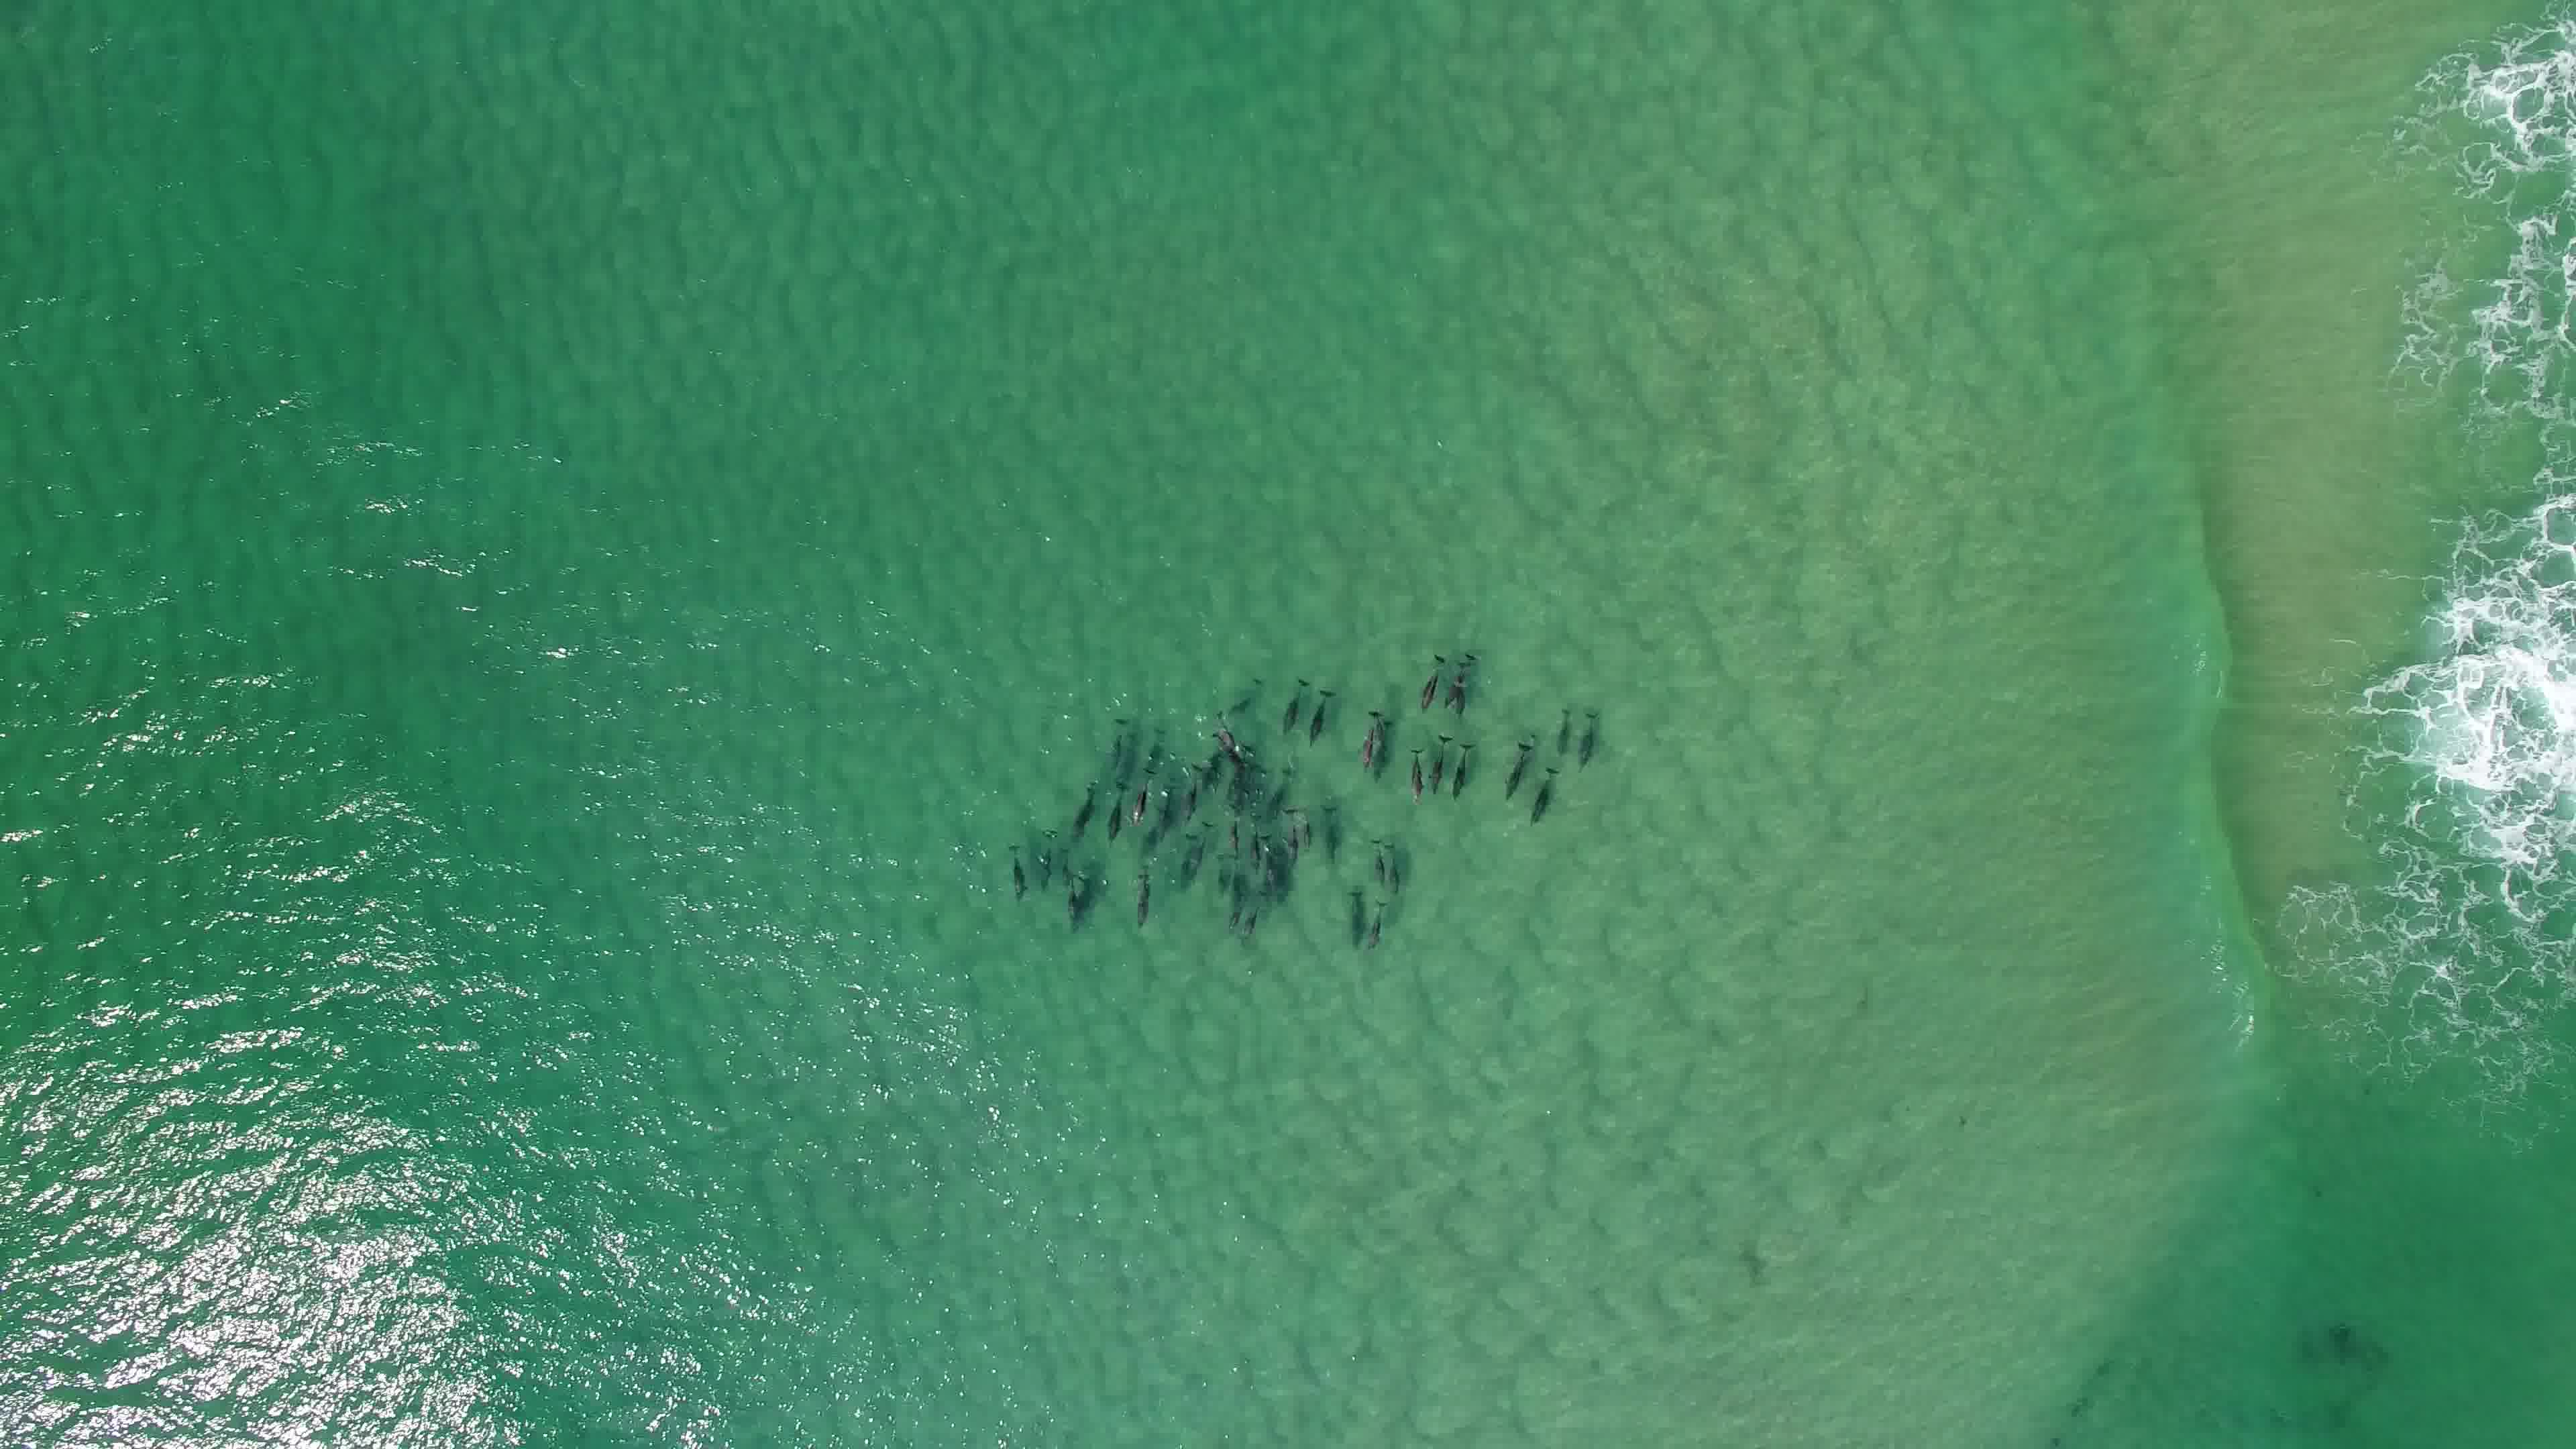dolphin: (1352, 701, 1401, 780), (1205, 704, 1254, 784), (1054, 775, 1102, 837), (1299, 679, 1338, 750), (1444, 640, 1479, 713), (1414, 646, 1449, 713), (1357, 886, 1392, 954), (1274, 672, 1313, 732), (1527, 752, 1559, 824), (1120, 770, 1157, 830), (1279, 810, 1316, 869), (994, 837, 1031, 895), (1359, 832, 1394, 892), (1175, 826, 1210, 886), (1125, 863, 1157, 929), (1504, 729, 1532, 800), (1376, 830, 1407, 892), (1341, 879, 1369, 945), (1571, 706, 1603, 761), (1550, 688, 1575, 755), (1028, 837, 1058, 892), (1223, 895, 1261, 936), (1175, 773, 1205, 824), (1215, 812, 1247, 860)
